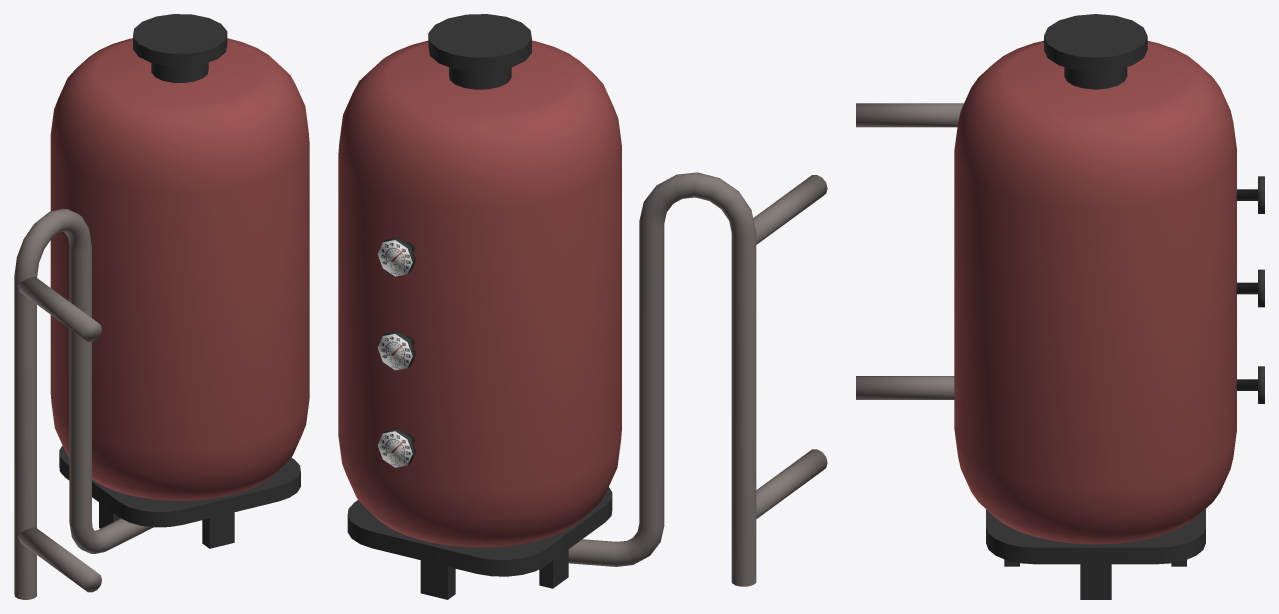
The model's file is boilertank.fbx.
3 renders of one model, left to right at view 1: azimuth 30°, elevation 25°; view 2: azimuth 150°, elevation 25°; view 3: azimuth 270°, elevation 25°, orthographic. The views are drawn at different scales.
Parts seen in each view (by area): view 1: boilertank, pipes; view 2: boilertank, pipes, meters; view 3: boilertank, pipes, meters.
Part boxes in pixels (x1,y1,x2,y2): boilertank: (50, 14, 309, 548); pipes: (14, 208, 153, 599); boilertank: (338, 14, 621, 599); pipes: (568, 172, 827, 586); meters: (377, 237, 415, 467); boilertank: (954, 14, 1236, 599); pipes: (856, 103, 963, 399); meters: (1236, 176, 1264, 403).
Size of the model in its own units: 1.92 by 2.76 by 1.95.
Materials: 8 (3 with a texture image).
